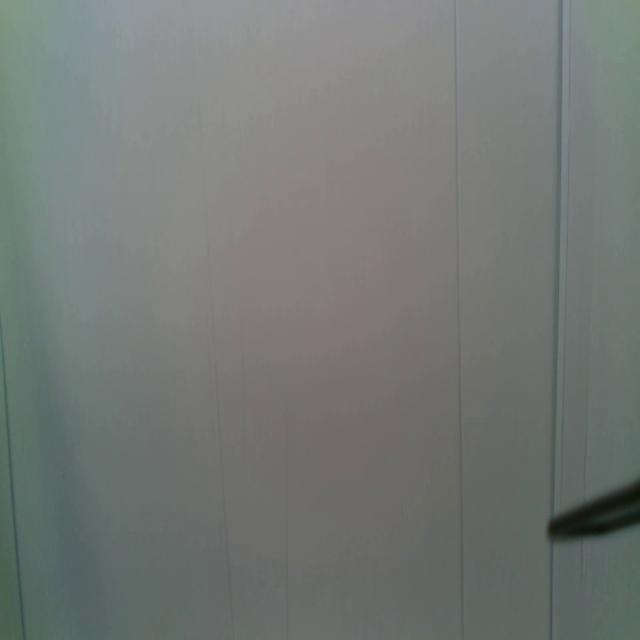crease: (196, 99, 237, 638), (550, 0, 574, 507), (453, 0, 467, 639), (1, 314, 28, 640), (284, 438, 292, 639), (582, 370, 592, 499), (549, 545, 556, 639)
